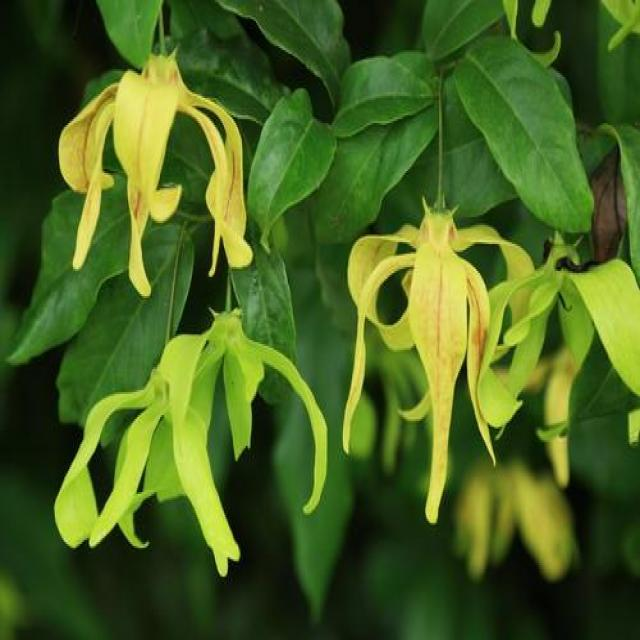organic waste: (38, 312, 332, 570), (342, 206, 523, 496), (52, 48, 262, 277), (485, 223, 634, 450)
